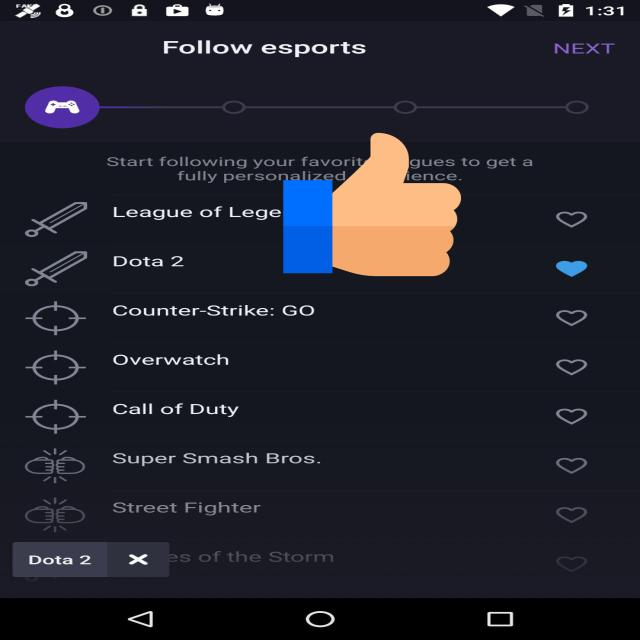privacy zuckering: (283, 129, 461, 280)
